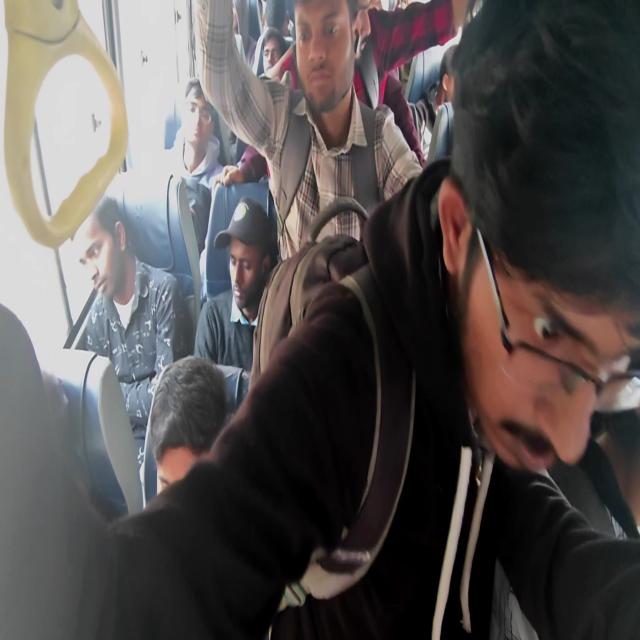person: (1, 1, 639, 637), (192, 0, 425, 262), (74, 195, 188, 503), (193, 195, 277, 374), (147, 354, 228, 498), (163, 76, 225, 255)
